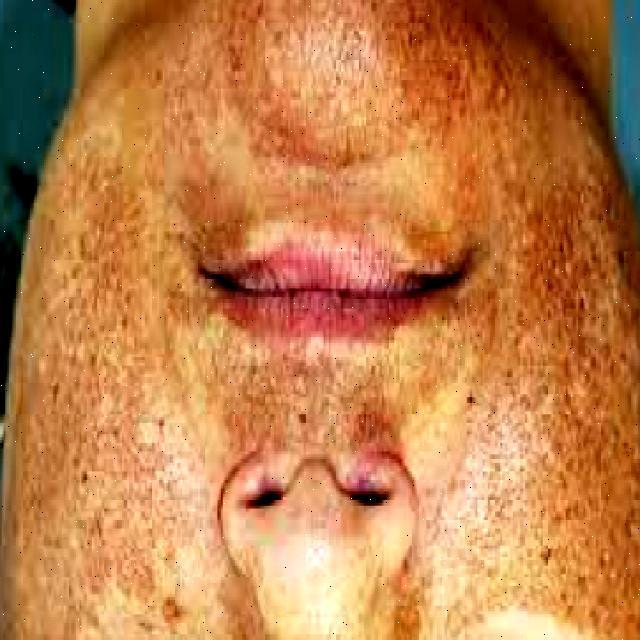Melasma: (35, 18, 620, 640)
